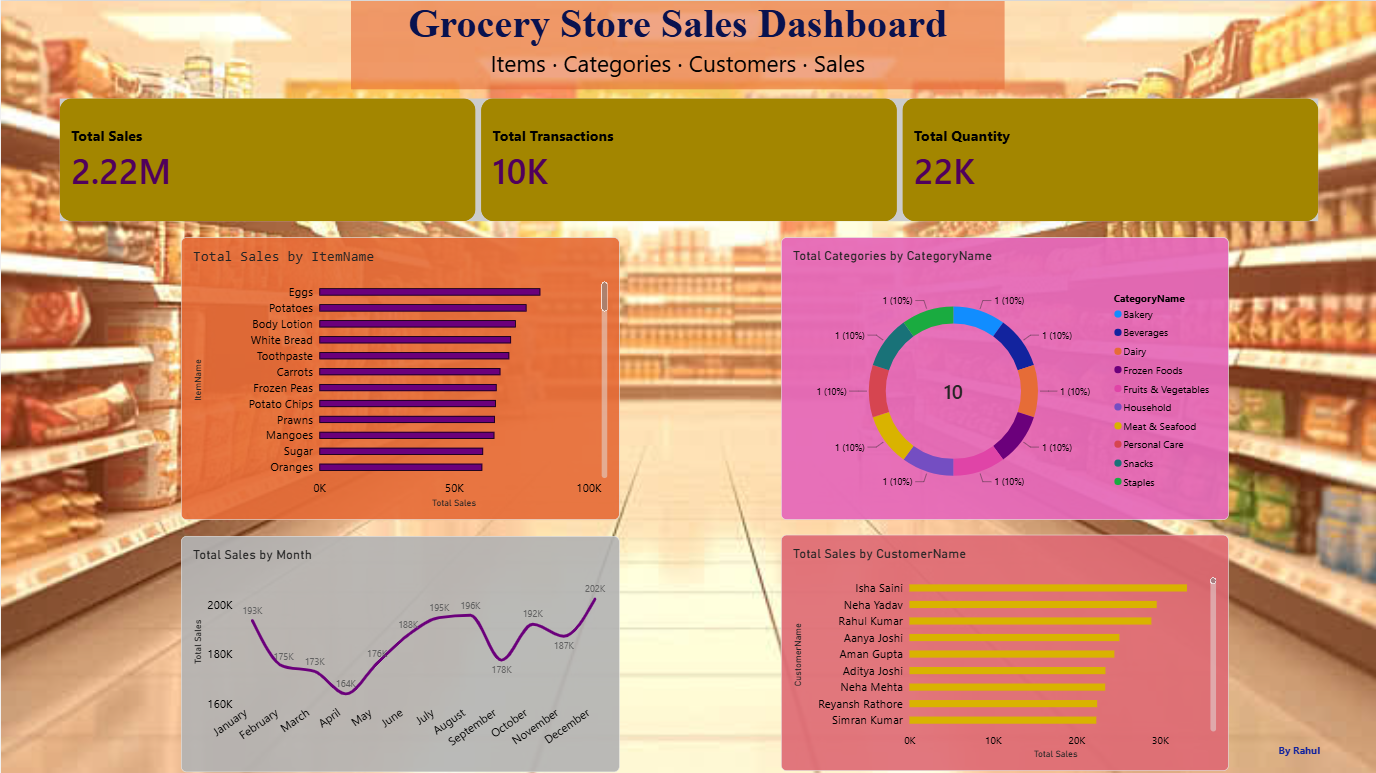

The page's visual inventory and layout, read from the dashboard file:
{"tool":"powerbi","page":{"name":"Page 1","canvas":[1920,1080],"ordinal":0},"visuals":[{"type":"textbox","box":[487.8,0,911.8,123.5],"z":0},{"type":"cardVisual","fields":{"Data":["Categories.Total Sales","Categories.Total Transactions","Categories.Total Quantity"]},"box":[82,136,1756.1,171],"z":1000},{"type":"barChart","fields":{"Category":["ItemsTable.ItemName"],"Y":["Categories.Total Sales"]},"box":[251.2,329.7,612.2,394.2],"z":1001},{"type":"donutChart","fields":{"Category":["CategoriesTable.CategoryName"],"Y":["CategoriesTable.Total Categories"]},"box":[1088.4,329.7,624.4,394.2],"z":1002},{"type":"lineChart","fields":{"Category":["Sales.Date.Variation.Date Hierarchy.Month"],"Y":["Categories.Total Sales"]},"box":[251.2,746.5,612.2,329.7],"z":1003},{"type":"clusteredBarChart","fields":{"Category":["CustomersTable.CustomerName"],"Y":["Categories.Total Sales"]},"box":[1088.4,744.8,624.4,329.7],"z":1004},{"type":"textbox","box":[1782.6,1036,137.8,38.4],"z":1005}]}

Visuals, with their boxes in screenshot pixels (x1, y1, x2, y2), scaled from the page's 1920x1080 canvas onto the 1376x773 screenshot:
textbox: [350, 0, 1003, 88]
cardVisual - Categories.Total Sales x Categories.Total Transactions: [59, 97, 1317, 220]
barChart - ItemsTable.ItemName x Categories.Total Sales: [180, 236, 619, 518]
donutChart - CategoriesTable.CategoryName x CategoriesTable.Total Categories: [780, 236, 1228, 518]
lineChart - Sales.Date.Variation.Date Hierarchy.Month x Categories.Total Sales: [180, 534, 619, 770]
clusteredBarChart - CustomersTable.CustomerName x Categories.Total Sales: [780, 533, 1228, 769]
textbox: [1278, 742, 1375, 769]
